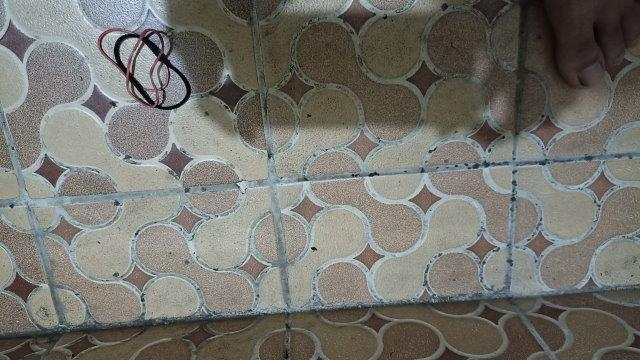karet: (98, 29, 191, 110)
